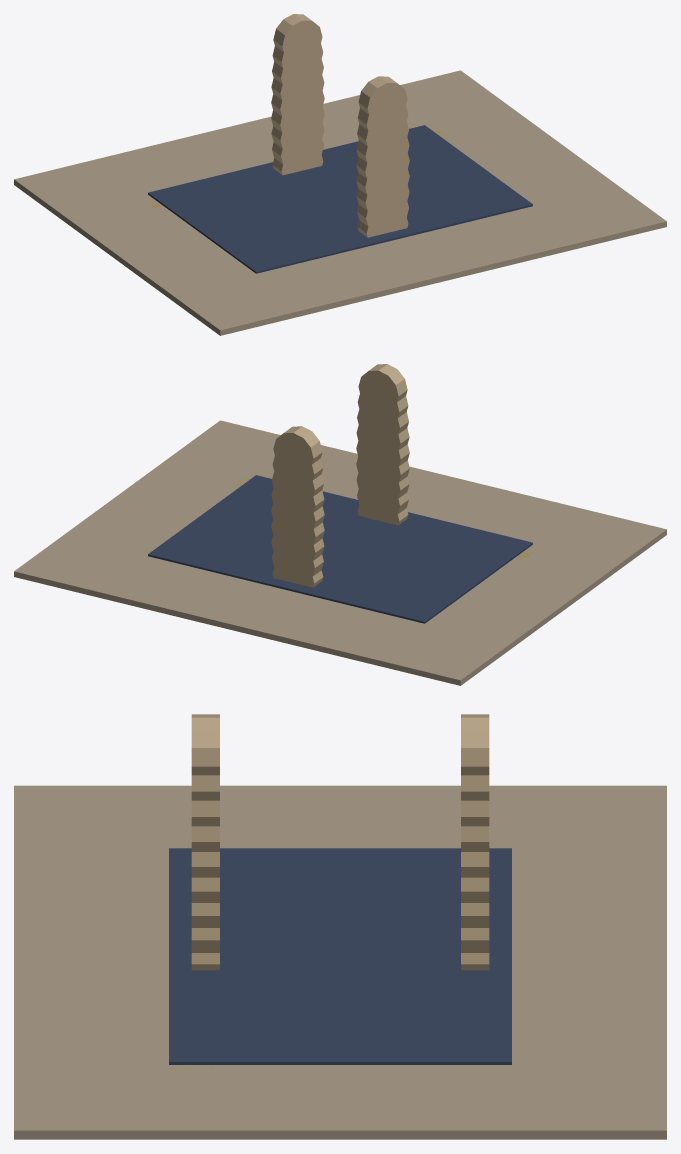
Rendered from stage_04_walls.glb.
The picture shows the model from 3 angles, top to bottom: view 1: azimuth 30°, elevation 25°; view 2: azimuth 150°, elevation 25°; view 3: azimuth 270°, elevation 25°; orthographic projection. The views are drawn at different scales.
Visible parts, largest first — view 1: world; view 2: world; view 3: world.
Part boxes in pixels (x1,y1,x2,y2): world: (14, 14, 666, 335); world: (14, 364, 666, 685); world: (14, 714, 666, 1139).
Bounding box in the file's own units: 10 × 4.05 × 8.
